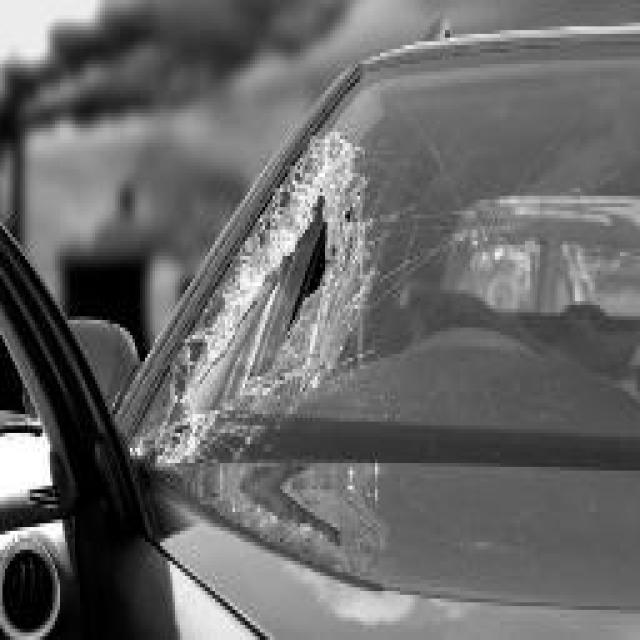Windshield: (155, 132, 618, 572)
